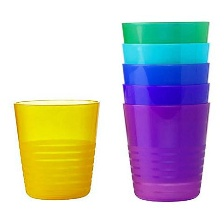glass: (115, 12, 216, 205), (10, 94, 102, 202)
